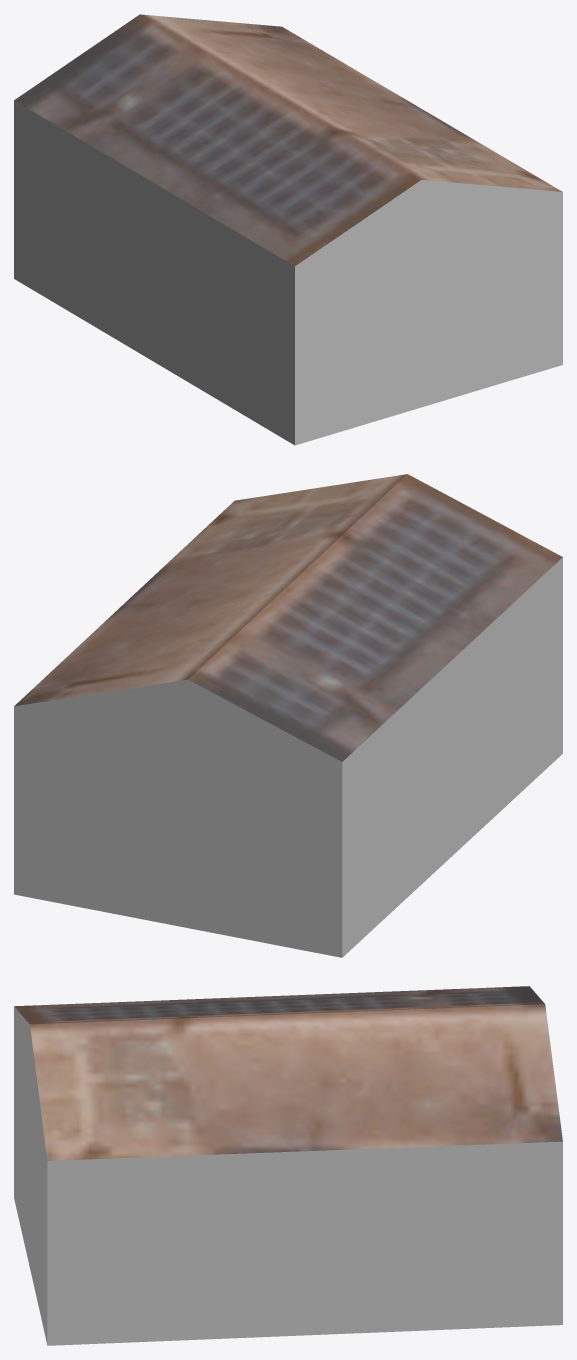
File: DEBW_0010007Txiq.gltf
3 views of the same model, one above another, from view 1: azimuth 30°, elevation 25°; view 2: azimuth 150°, elevation 25°; view 3: azimuth 270°, elevation 25° (orthographic). The views are drawn at different scales.
Parts seen in each view (by area): view 1: Z_UP; view 2: Z_UP; view 3: Z_UP.
Part boxes in pixels (<box>): Z_UP: <box>14,14,562,445</box>; Z_UP: <box>14,474,562,957</box>; Z_UP: <box>14,986,562,1345</box>.
Bounding box in the file's own units: 13.87 × 9.32 × 19.06.
2 materials, 1 textured.
